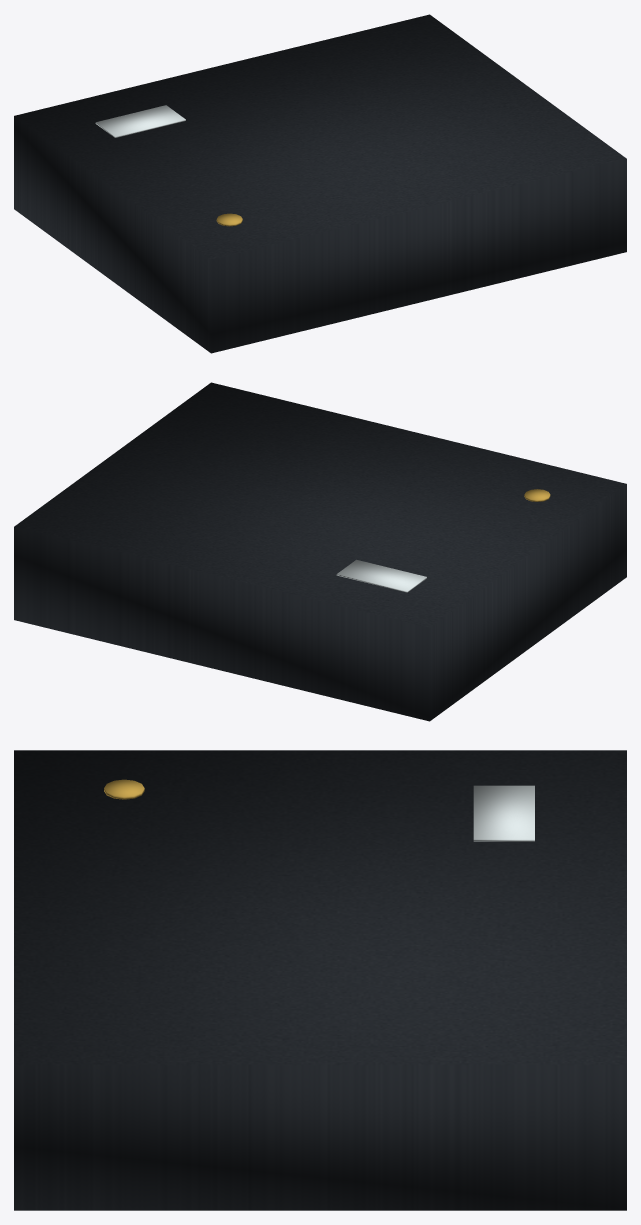
The picture shows the model from 3 angles, top to bottom: view 1: azimuth 30°, elevation 25°; view 2: azimuth 150°, elevation 25°; view 3: azimuth 270°, elevation 25°; orthographic projection. The views are drawn at different scales.
Visible parts, largest first — view 1: L116_000__PSMAT__IC_MatteBlack, L116_001__PSMAT__Silkscreen_White; view 2: L116_000__PSMAT__IC_MatteBlack, L116_001__PSMAT__Silkscreen_White; view 3: L116_000__PSMAT__IC_MatteBlack, L116_001__PSMAT__Silkscreen_White, L116_002__PSMAT__Gold_ENIG.
Part boxes in pixels (x1,y1,x2,y2): L116_000__PSMAT__IC_MatteBlack: [14, 14, 626, 353]; L116_001__PSMAT__Silkscreen_White: [95, 105, 185, 137]; L116_000__PSMAT__IC_MatteBlack: [14, 382, 626, 721]; L116_001__PSMAT__Silkscreen_White: [336, 559, 426, 592]; L116_000__PSMAT__IC_MatteBlack: [14, 750, 626, 1210]; L116_001__PSMAT__Silkscreen_White: [473, 785, 534, 841]; L116_002__PSMAT__Gold_ENIG: [104, 779, 144, 799].
Size of the model in its own units: 0.028 by 0.00649 by 0.023.
4 materials, 4 textured.
